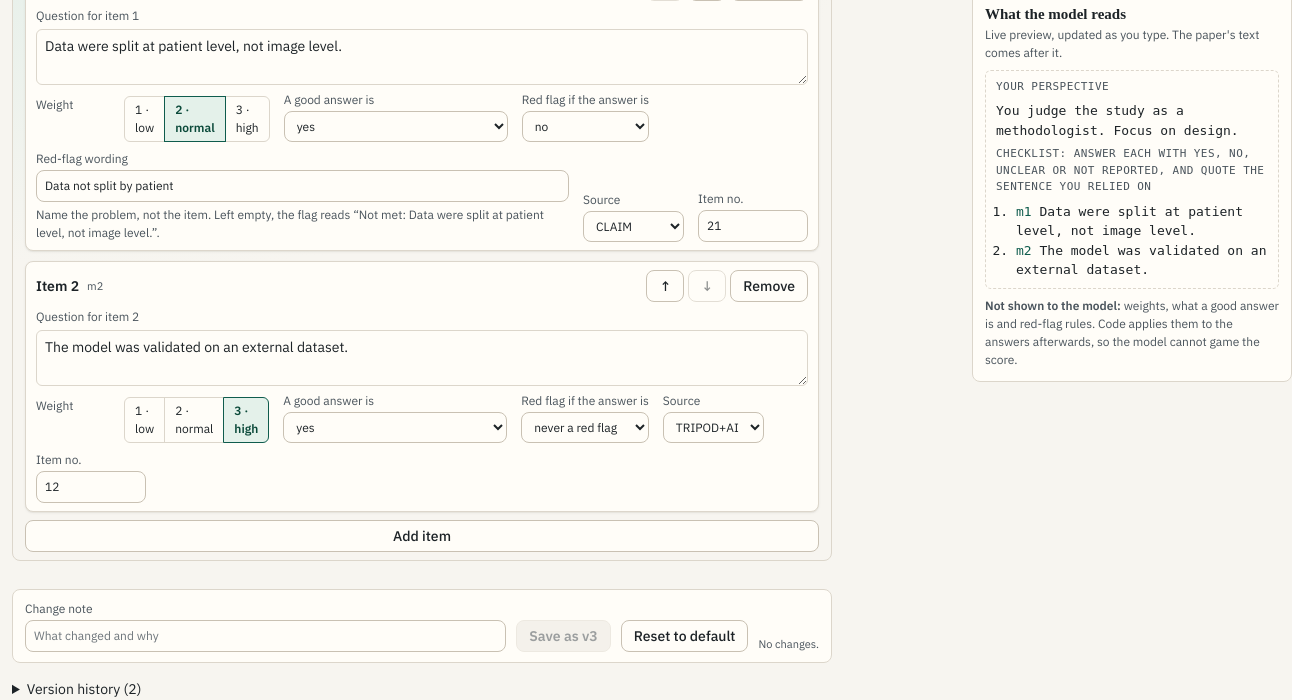
Test: Reviewer editor › compares two versions once the history is opened
(page scrolled)
Click the heading "Version history (2)".
click(84, 689)  # box 27,680 -> 141,698
(page scrolled)
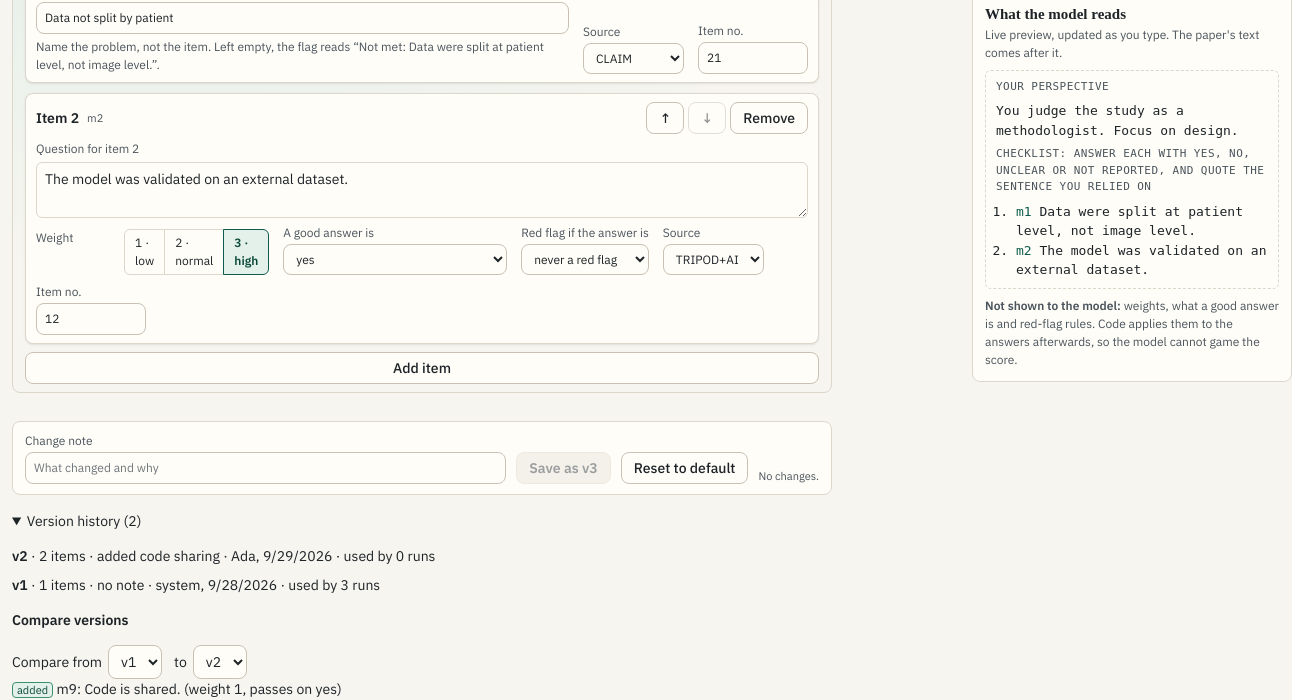
Now the list item "added m9: Code is shared. (weight 1, passes on yes)" is shown, box 12,680 -> 342,698
Now the text "added" is shown, box 12,682 -> 53,698
